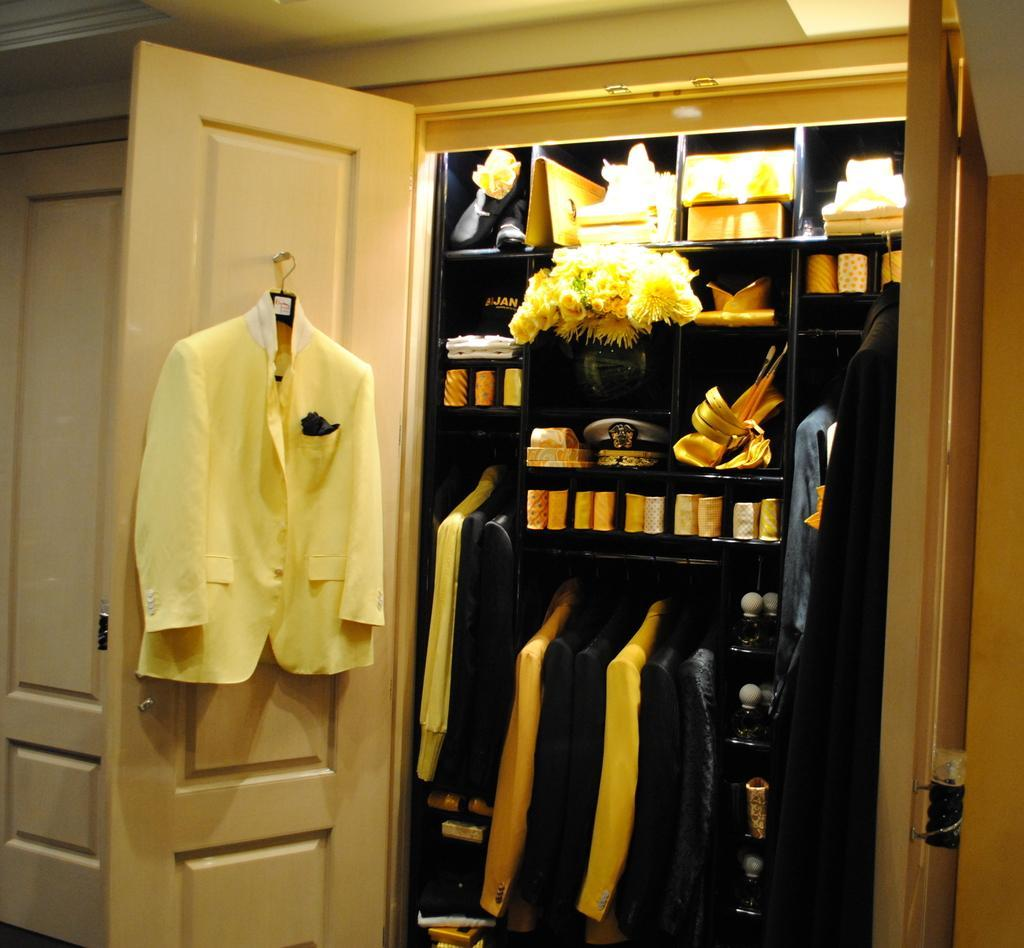door: (6, 171, 120, 936)
handle: (914, 776, 962, 848), (134, 688, 162, 730)
